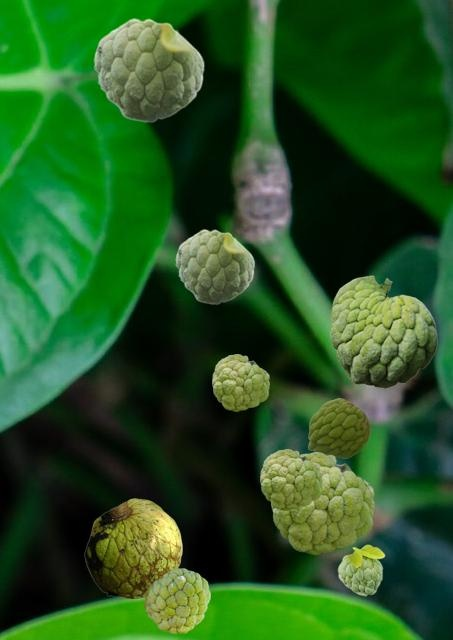atis: (330, 275, 436, 387), (93, 18, 204, 121), (271, 452, 373, 553), (84, 498, 181, 598), (175, 229, 254, 303), (144, 568, 209, 632), (260, 449, 321, 509), (308, 398, 369, 457), (212, 354, 268, 410), (337, 544, 384, 595)
